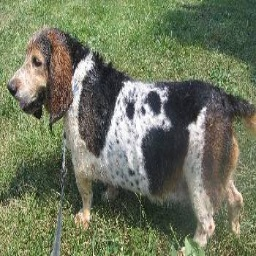dog: (8, 26, 250, 247)
